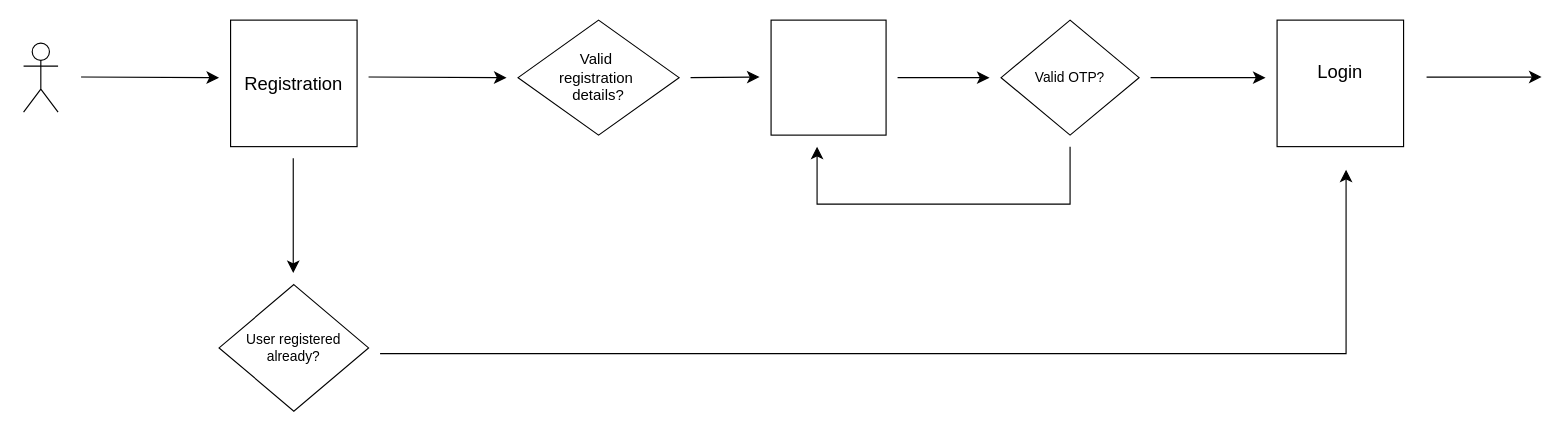
Some shapes in this 1561 by 431 pixel diagram are drawn without their labels. The shapes that lost their labels are listed below. From the top down, each one's centre as x and y in pixels, then its label:
At pixel 40 77: "Actor".
At pixel 828 77: "Enter OTP/Valid mobile number".
